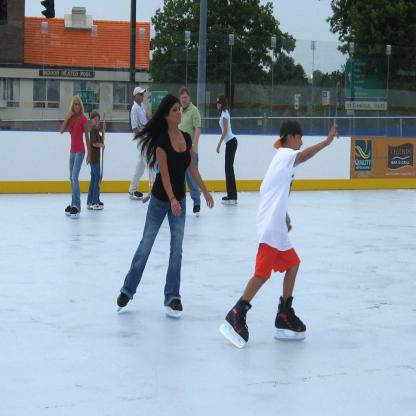face: (170, 102, 182, 125), (293, 131, 304, 151), (181, 92, 190, 107), (138, 92, 145, 103), (93, 117, 100, 128), (75, 100, 81, 112), (217, 98, 223, 110)
